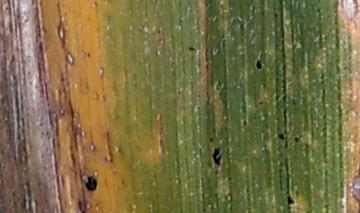tarspot: (211, 146, 224, 167), (84, 175, 98, 193), (284, 193, 296, 206), (254, 58, 263, 72), (276, 131, 285, 141), (76, 198, 83, 210), (194, 104, 203, 113), (272, 12, 280, 21), (187, 45, 196, 52), (318, 72, 325, 81), (207, 136, 215, 143), (155, 27, 162, 35), (86, 50, 92, 59), (293, 136, 300, 143), (315, 5, 321, 13), (242, 119, 248, 126), (258, 99, 264, 106), (92, 1, 99, 7), (290, 100, 297, 105), (79, 209, 87, 213)
